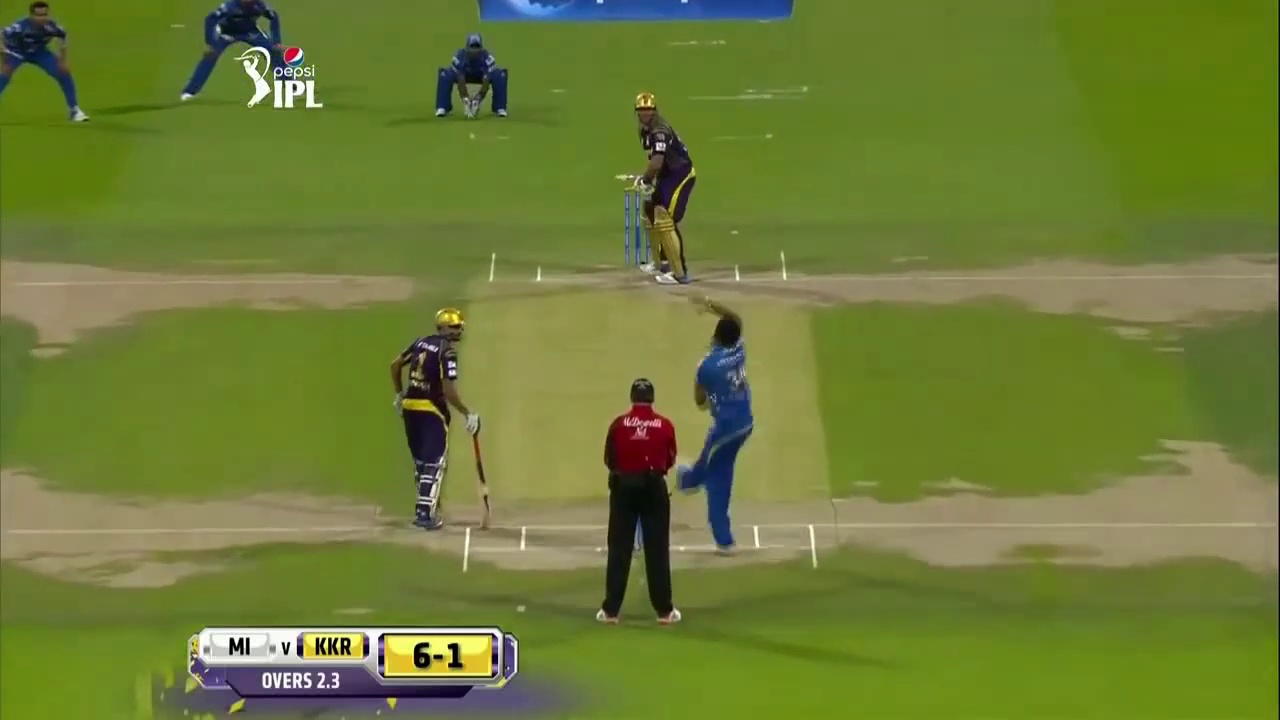bat: (471, 440, 493, 531)
